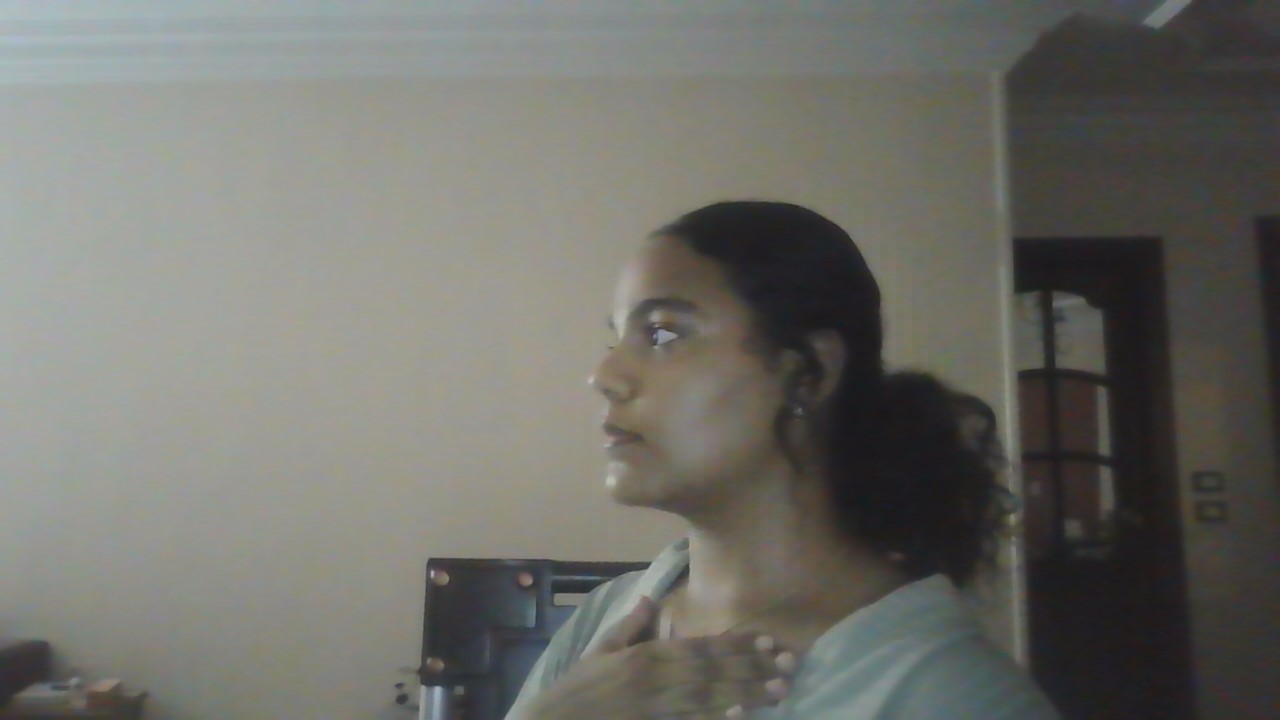please: (450, 590, 819, 720)
